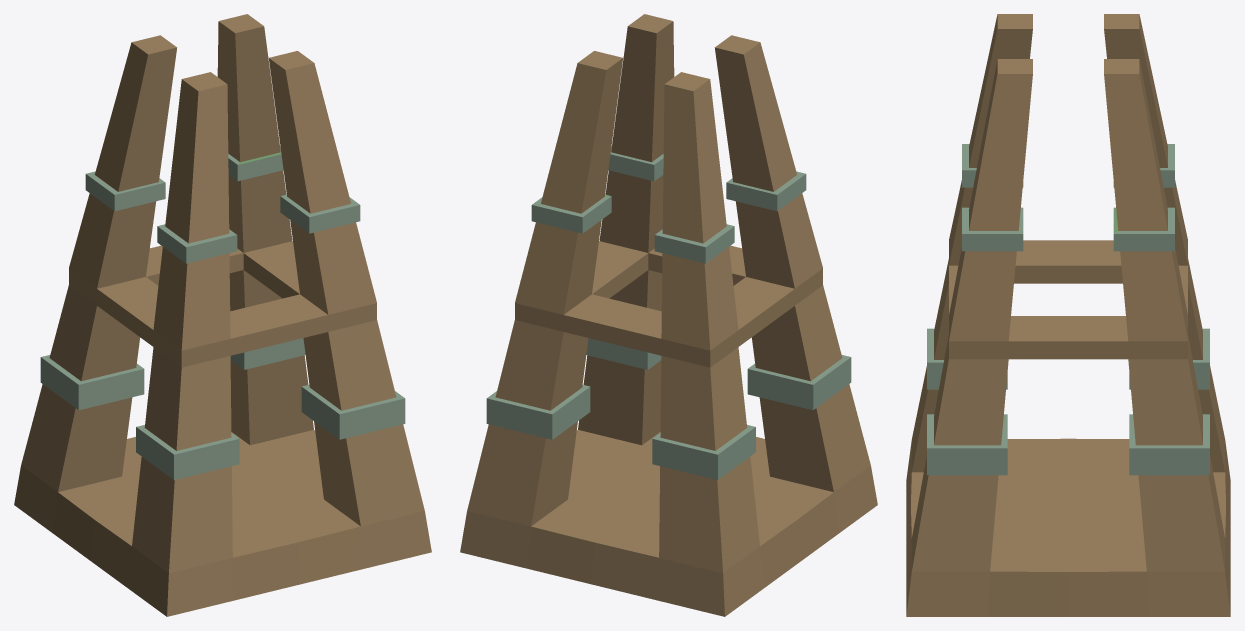
Rendered from rock_slinger.fbx.
3 renders of one model, left to right at view 1: azimuth 30°, elevation 25°; view 2: azimuth 150°, elevation 25°; view 3: azimuth 270°, elevation 25°, orthographic. The views are drawn at different scales.
Visible parts, largest first — view 1: rock_slinger; view 2: rock_slinger; view 3: rock_slinger.
Part boxes in pixels (box(x1,y1,x2,y2)): rock_slinger: box(14, 14, 431, 616); rock_slinger: box(460, 14, 877, 616); rock_slinger: box(906, 14, 1230, 616).
Bounding box in the file's own units: 160 × 275 × 160.
Materials: 1 (1 with a texture image).
